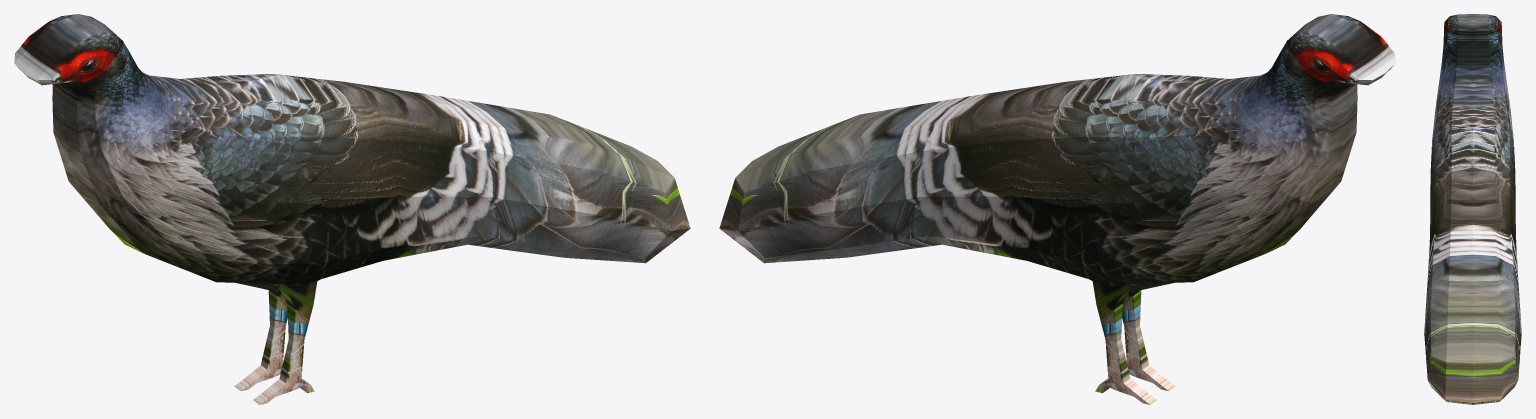
File: Kalij Pheasant.fbx
3 renders of one model, left to right at view 1: azimuth 30°, elevation 25°; view 2: azimuth 150°, elevation 25°; view 3: azimuth 270°, elevation 25°, orthographic. The views are drawn at different scales.
Visible parts, largest first — view 1: Body, Legs; view 2: Body, Legs; view 3: Body.
Part boxes in pixels (x1,y1,x2,y2): Body: (14, 14, 690, 292); Legs: (234, 280, 317, 404); Body: (719, 14, 1395, 292); Legs: (1092, 280, 1175, 404); Body: (1424, 14, 1521, 404).
Bounding box in the file's own units: 469 × 285 × 98.14.
Materials: 1 (1 with a texture image).
